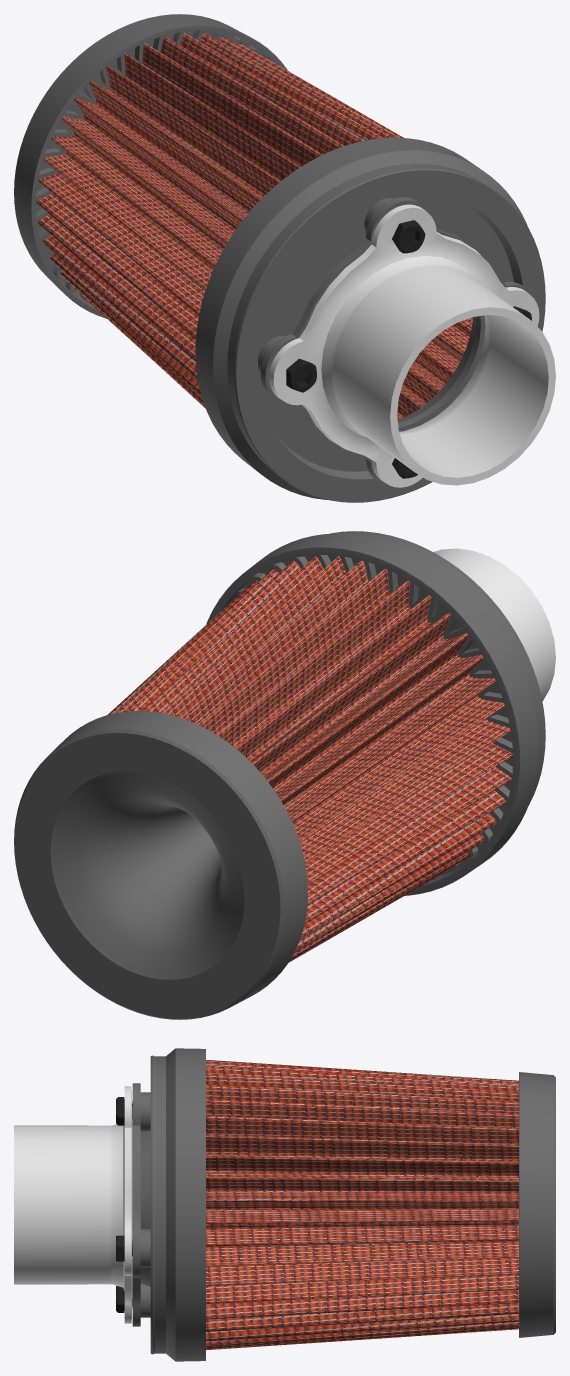
Rendered from FilterModule.fbx.
3 views of the same model, one above another, from view 1: azimuth 30°, elevation 25°; view 2: azimuth 150°, elevation 25°; view 3: azimuth 270°, elevation 25° (orthographic). The views are drawn at different scales.
Parts seen in each view (by area): view 1: Цилиндр.002, Цилиндр.001, Окружность, Цилиндр.003, Окружность.001, Цилиндр.004, Bolt, Bolt.003; view 2: Цилиндр.002, Цилиндр.003, Цилиндр.005, Цилиндр.001, Окружность, Цилиндр; view 3: Цилиндр.002, Окружность, Цилиндр.001, Цилиндр.003, Окружность.001.
Boxes of the visible parts, x1=… form: Цилиндр.002: x1=36, y1=32, x2=472, y2=419; Цилиндр.001: x1=195, y1=137, x2=545, y2=502; Окружность: x1=269, y1=204, x2=555, y2=487; Цилиндр.003: x1=14, y1=14, x2=287, y2=318; Окружность.001: x1=260, y1=197, x2=536, y2=487; Цилиндр.004: x1=36, y1=30, x2=260, y2=302; Bolt: x1=392, y1=220, x2=425, y2=253; Bolt.003: x1=286, y1=358, x2=316, y2=392; Цилиндр.002: x1=108, y1=556, x2=512, y2=962; Цилиндр.003: x1=14, y1=711, x2=307, y2=1019; Цилиндр.005: x1=15, y1=733, x2=280, y2=1018; Цилиндр.001: x1=206, y1=531, x2=545, y2=895; Окружность: x1=433, y1=548, x2=555, y2=701; Цилиндр: x1=237, y1=555, x2=512, y2=879; Цилиндр.002: x1=206, y1=1060, x2=518, y2=1349; Окружность: x1=14, y1=1086, x2=132, y2=1323; Цилиндр.001: x1=140, y1=1048, x2=205, y2=1361; Цилиндр.003: x1=519, y1=1072, x2=555, y2=1337; Окружность.001: x1=132, y1=1083, x2=140, y2=1326.
Bounding box in the file's own units: 182 × 182 × 315.
